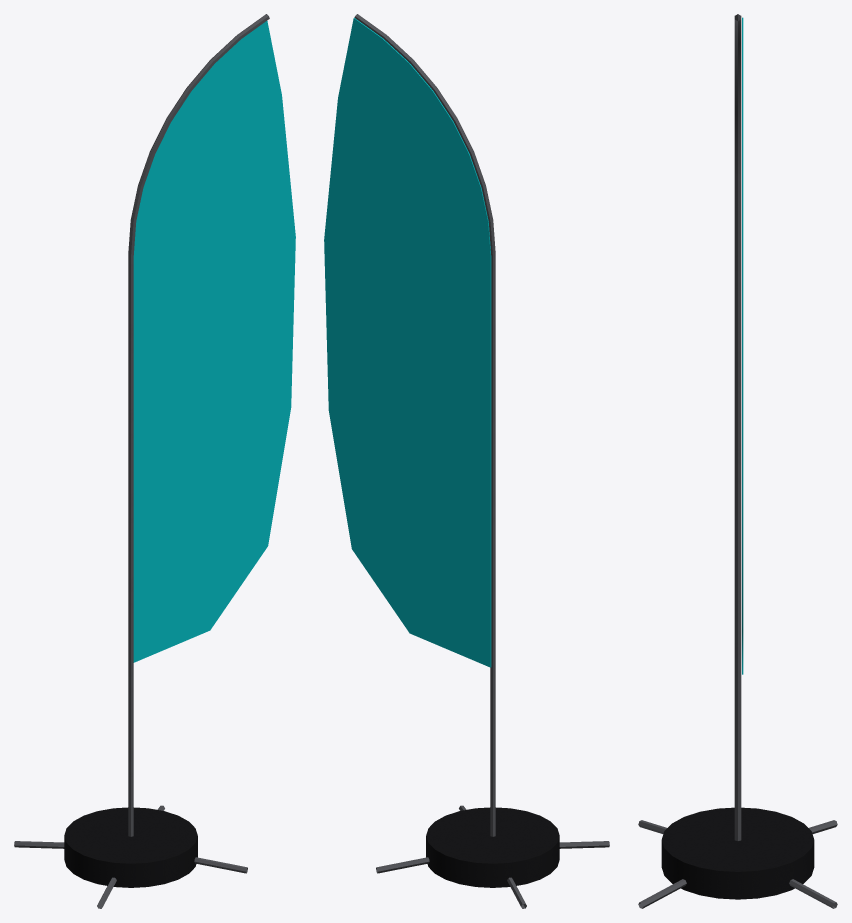
File: flag_feather.gltf
3 views of the same model, side by side, from view 1: azimuth 30°, elevation 25°; view 2: azimuth 150°, elevation 25°; view 3: azimuth 270°, elevation 25° (orthographic). The views are drawn at different scales.
Parts seen in each view (by area): view 1: flag_feather; view 2: flag_feather; view 3: flag_feather.
Part boxes in pixels (bbox=[...]): flag_feather: bbox=[14, 14, 295, 908]; flag_feather: bbox=[324, 14, 609, 908]; flag_feather: bbox=[638, 14, 837, 908].
Bounding box in the file's own units: 1.05 × 3.36 × 0.6534.
3 materials, 2 textured.
